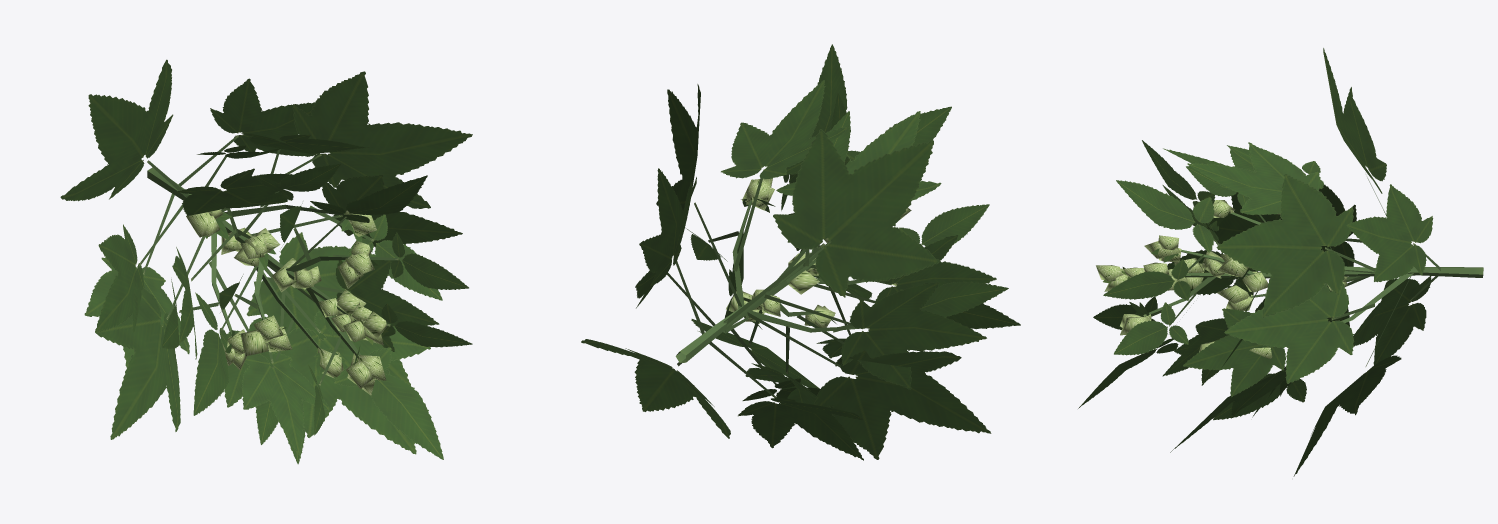
File: p_male_afghan_flowering_c0_cards.obj
3 renders of one model, left to right at view 1: azimuth 30°, elevation 25°; view 2: azimuth 150°, elevation 25°; view 3: azimuth 270°, elevation 25°, orthographic. The views are drawn at different scales.
Bounding box in the file's own units: 1.26 × 1.26 × 1.15.
Materials: 1 (1 with a texture image).
